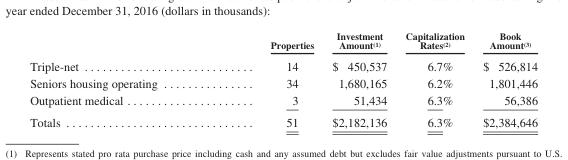table: (29, 29, 537, 129)
table column: (29, 29, 213, 129), (213, 29, 322, 129), (395, 29, 473, 129), (322, 29, 395, 129), (473, 29, 537, 129)
table column header: (29, 29, 537, 54)
table row: (29, 29, 537, 54), (29, 54, 537, 74), (29, 91, 537, 111), (29, 111, 537, 129), (29, 74, 537, 91)
